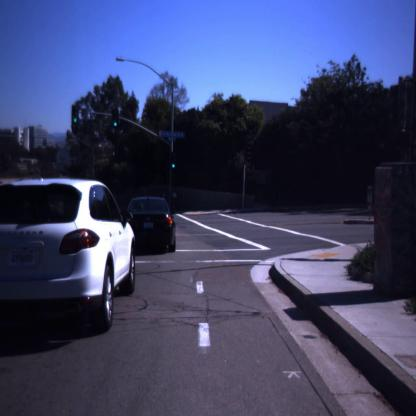trafficlight: (168, 150, 178, 174), (111, 107, 119, 131), (72, 107, 80, 127)
